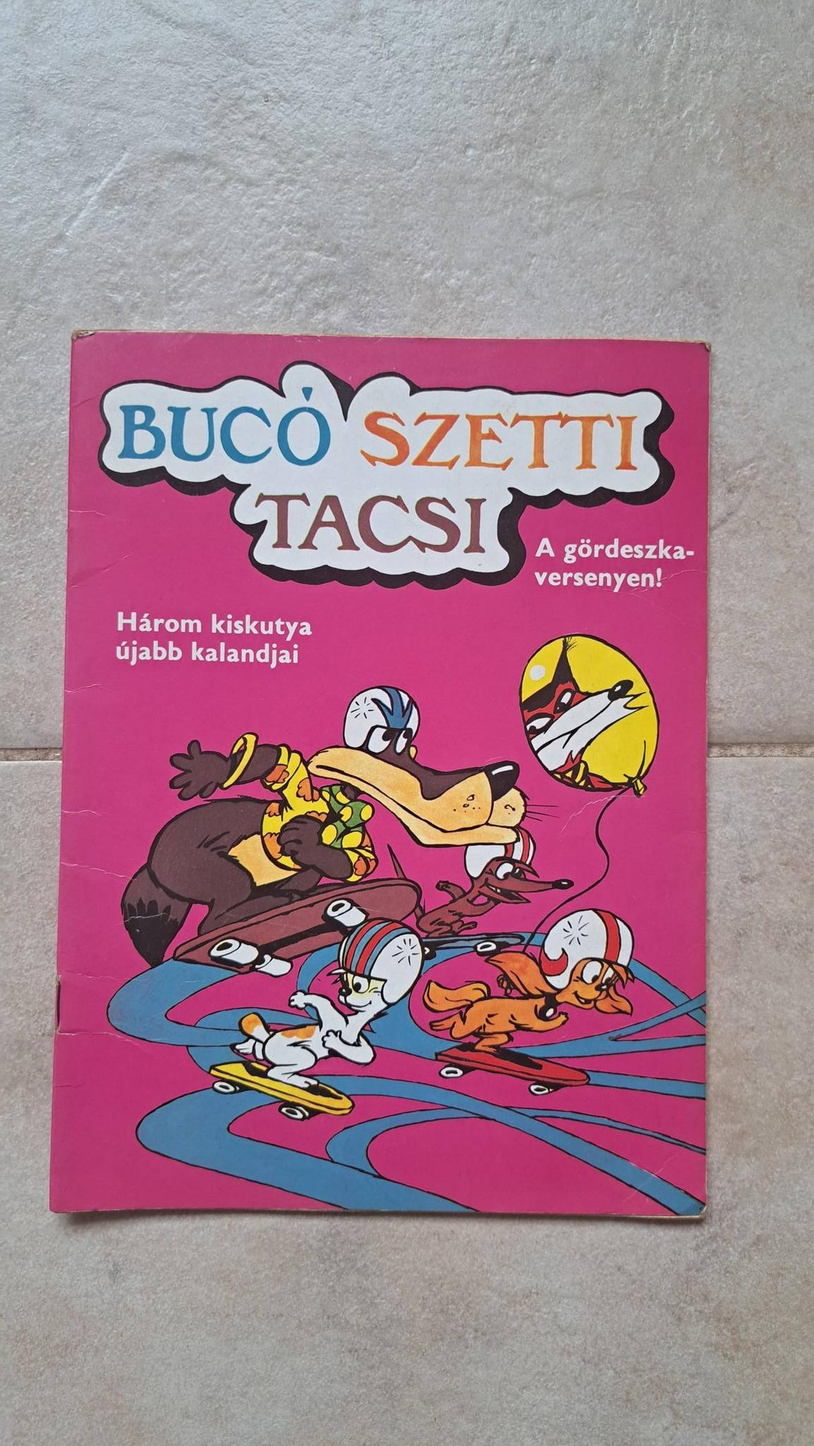comic: (52, 333, 711, 1216)
